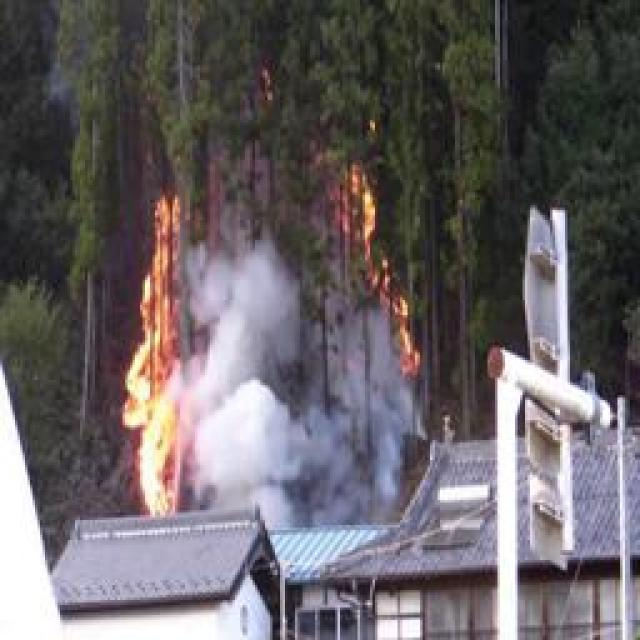Fire: (120, 187, 194, 520), (324, 159, 422, 386)
Smoke: (165, 235, 434, 536)
